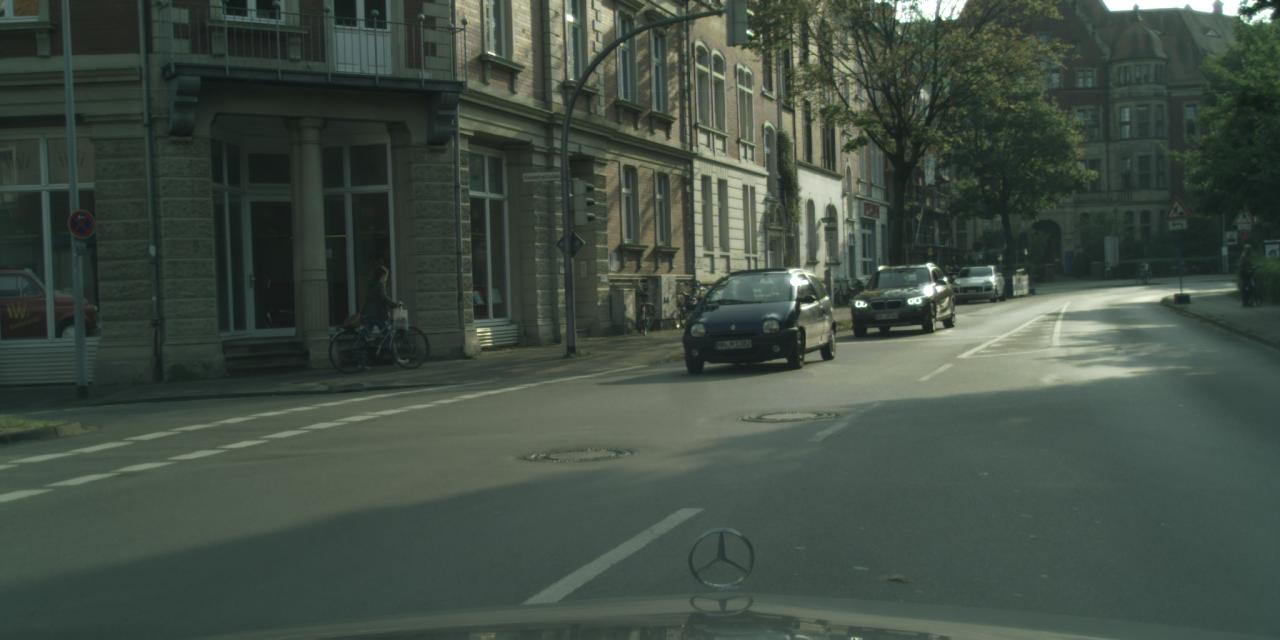ped: (363, 265, 403, 366), (1234, 243, 1258, 305), (1140, 259, 1149, 282)
